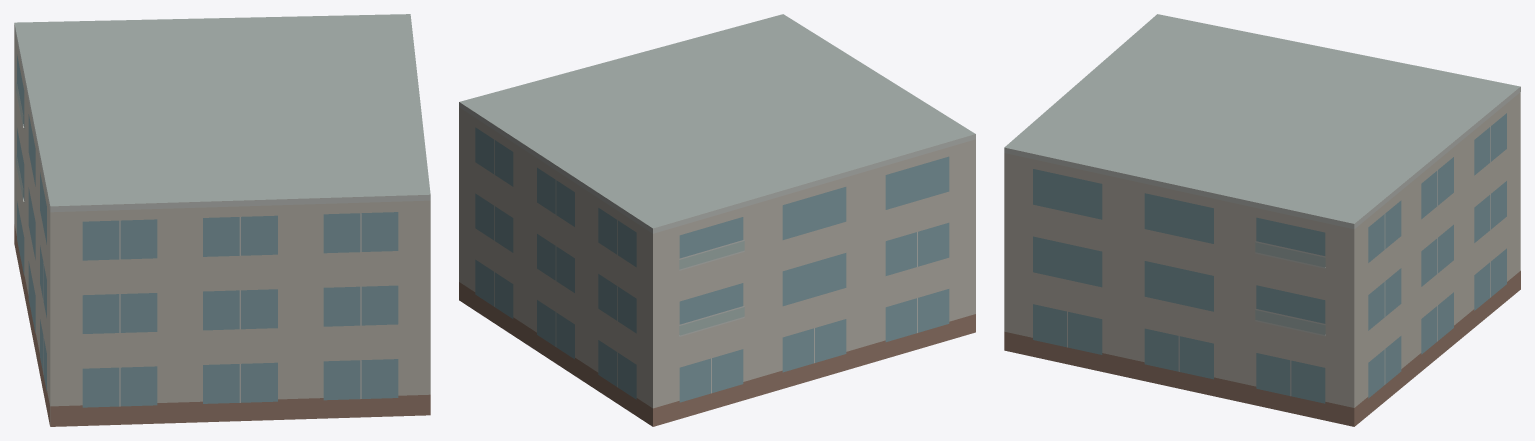
The model's file is survey-upis-33041219.glb.
3 views of the same model, side by side, from view 1: azimuth 30°, elevation 25°; view 2: azimuth 150°, elevation 25°; view 3: azimuth 270°, elevation 25° (orthographic). The views are drawn at different scales.
Visible parts, largest first — view 1: survey-upis-33041219.tmp; view 2: survey-upis-33041219.tmp; view 3: survey-upis-33041219.tmp.
Boxes of the visible parts, box(x1,y1,x2,y2) form: survey-upis-33041219.tmp: box(14, 14, 430, 426); survey-upis-33041219.tmp: box(459, 14, 975, 426); survey-upis-33041219.tmp: box(1004, 14, 1520, 426).
Bounding box in the file's own units: 20.31 × 9.15 × 21.11.
